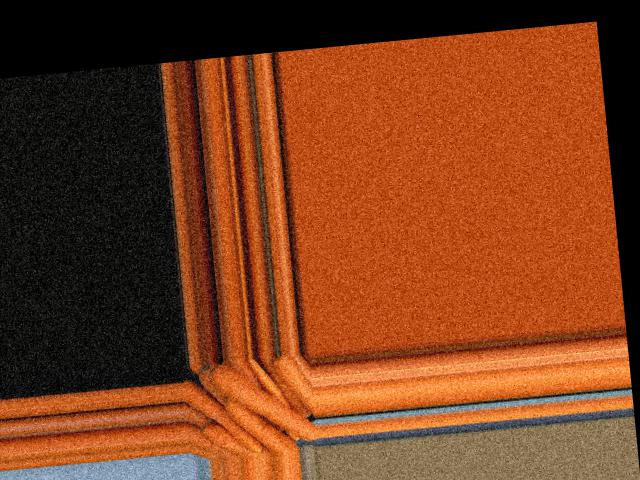carrot: (182, 382, 259, 457)
